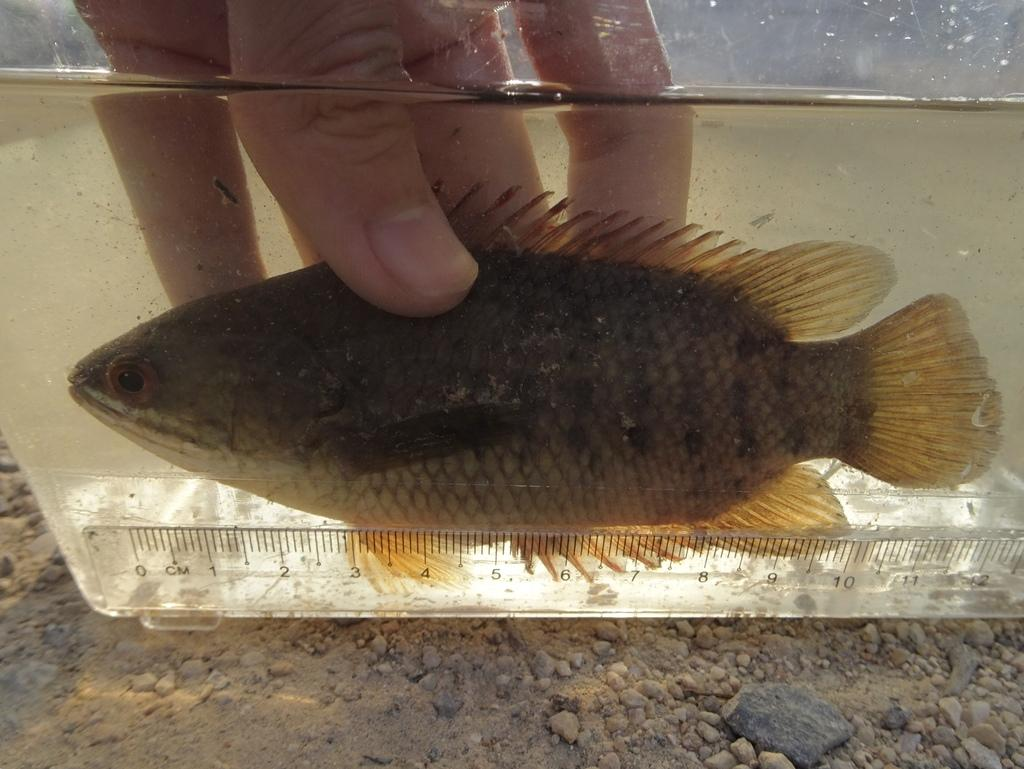Climbing Perch: (67, 178, 1006, 594)
